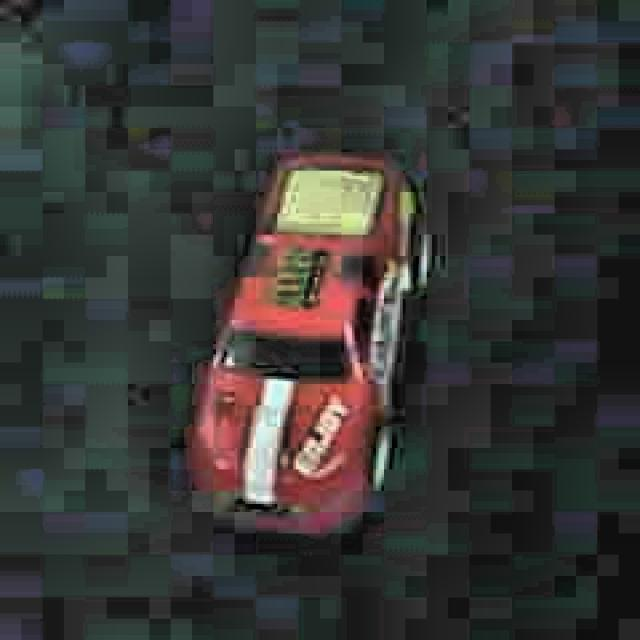car: (185, 144, 440, 550)
